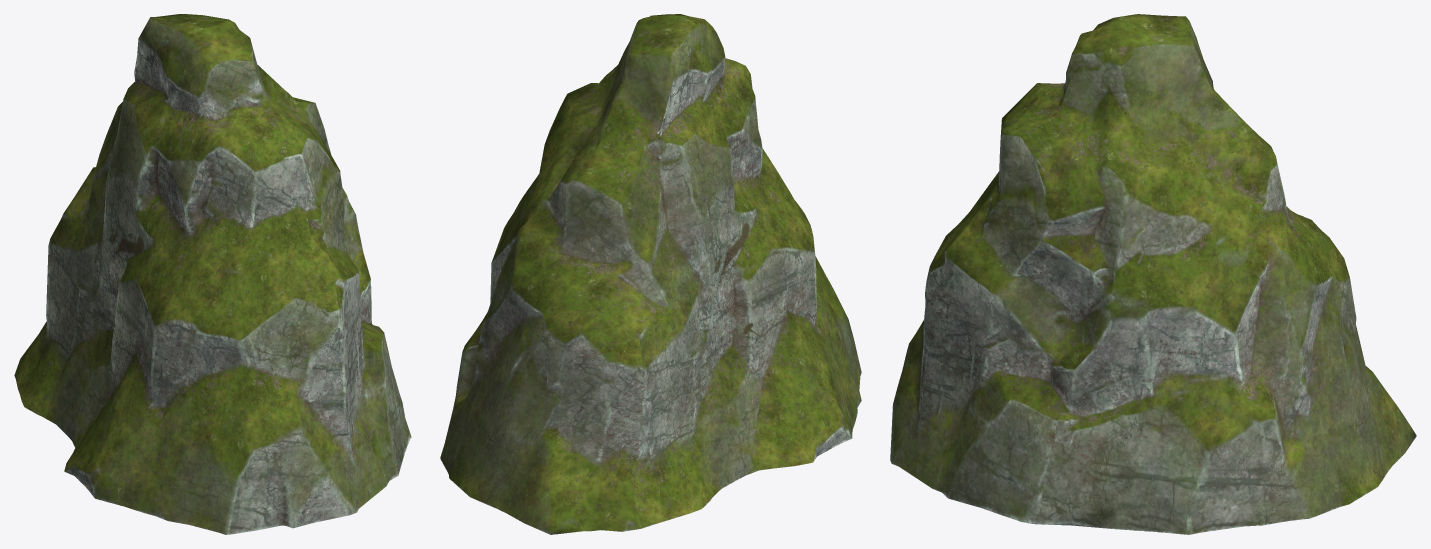
The model's file is Mountain.glb.
The picture shows the model from 3 angles, left to right: view 1: azimuth 30°, elevation 25°; view 2: azimuth 150°, elevation 25°; view 3: azimuth 270°, elevation 25°; orthographic projection. The views are drawn at different scales.
Visible parts, largest first — view 1: Mountain_01; view 2: Mountain_01; view 3: Mountain_01.
Boxes of the visible parts, x1,y1,x2,y2 form: Mountain_01: (14, 14, 411, 534); Mountain_01: (440, 14, 861, 534); Mountain_01: (890, 14, 1416, 534).
Bounding box in the file's own units: 3.04 × 3.71 × 4.18.
1 material, 1 textured.
